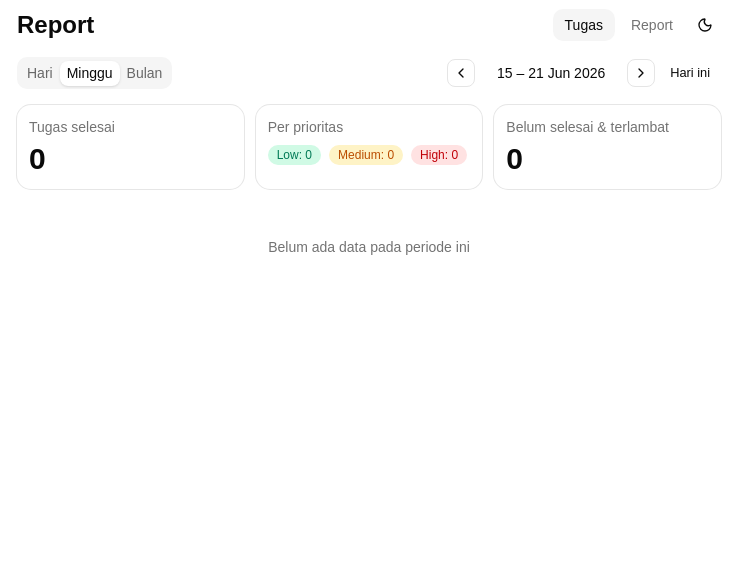
it: ReportPage › navigates to the previous and next period
expect the text "Minggu lalu" is not shown: met
Step 1. Click the button named "Periode sebelumnya" → click(461, 73), box [447, 59, 475, 87]
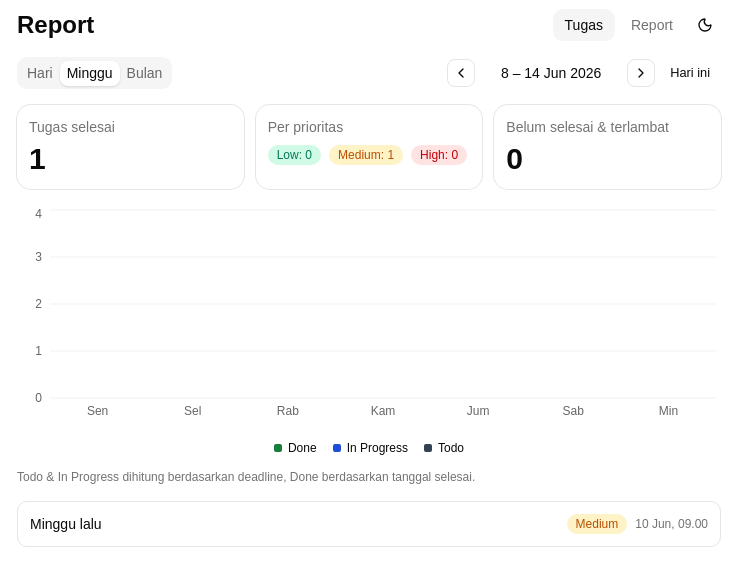
expect the text "Minggu lalu" is shown: met, box [30, 514, 102, 534]
Step 2. Click the button named "Periode berikutnya" → click(641, 73), box [627, 59, 655, 87]
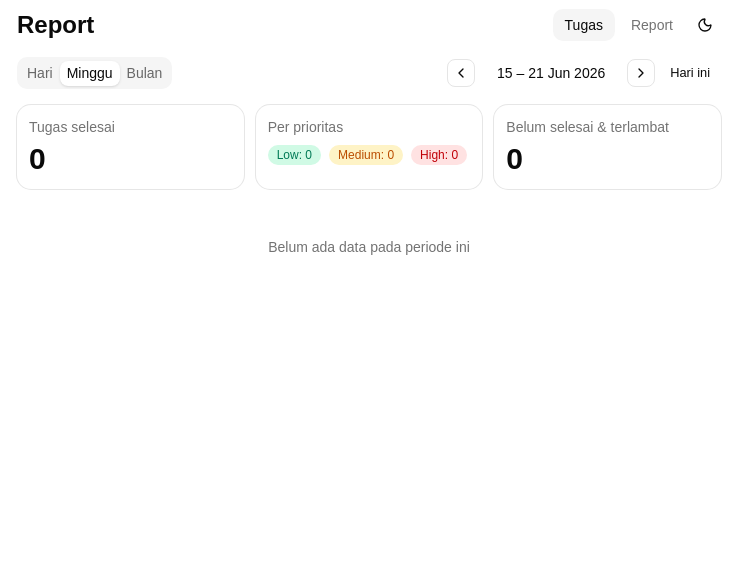
expect the text "Minggu lalu" is gone: met
